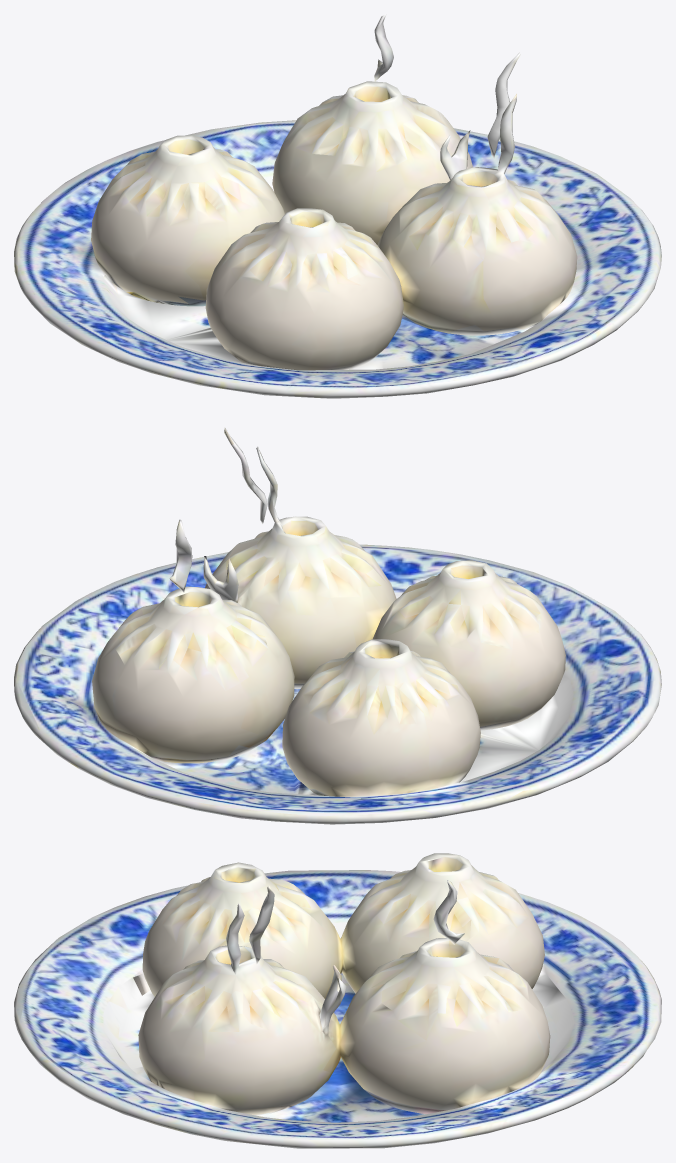
File: baozi.glb
The picture shows the model from 3 angles, top to bottom: view 1: azimuth 30°, elevation 25°; view 2: azimuth 150°, elevation 25°; view 3: azimuth 270°, elevation 25°; orthographic projection.
Visible parts, largest first — view 1: baozi; view 2: baozi; view 3: baozi.
Boxes of the visible parts, x1,y1,x2,y2 form: baozi: (14,14,661,398); baozi: (14,427,661,824); baozi: (14,853,661,1148).
Bounding box in the file's own units: 2.49 × 1 × 2.5.
Materials: 1 (1 with a texture image).
